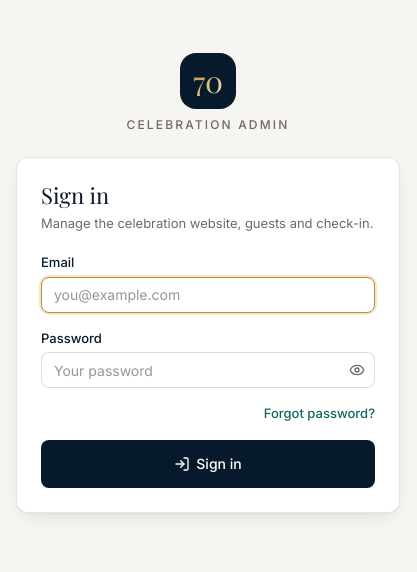
LoginPage › shows a clear message for ACCOUNT_DISABLED
This screenshot has width=417, height=572.
Type "admin@demo.local" into the field labelled "Email". click: (208, 295)
box: [41,277,375,313]
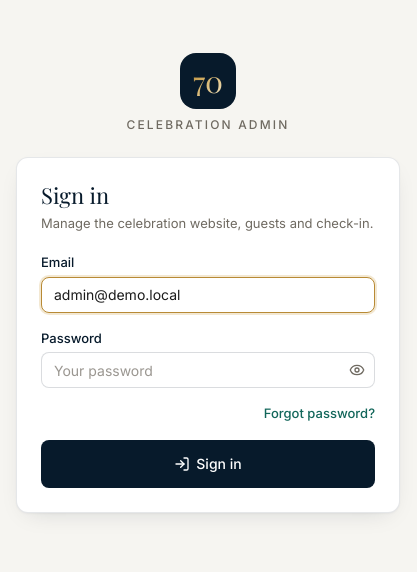
Type "wrong-password" into the password field labelled "Password". click: (208, 370)
box: [41,352,375,388]
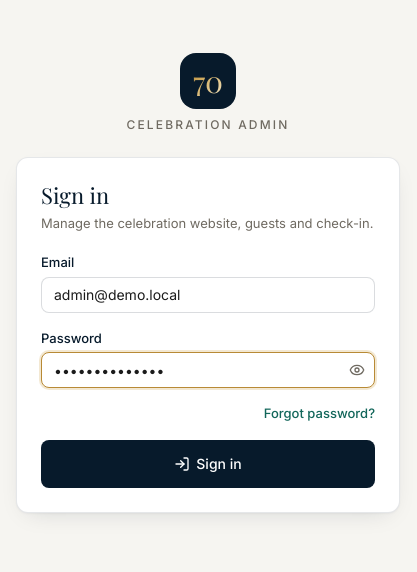
Click the button "Sign in". click: (208, 464)
box: [41,440,375,488]
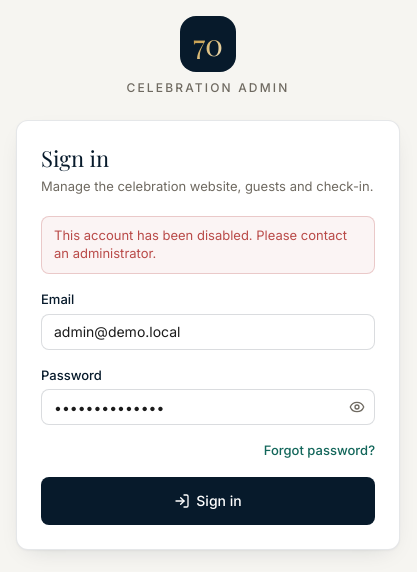
expect the message shows "This account has been disabled": met, box [54,227,347,261]
